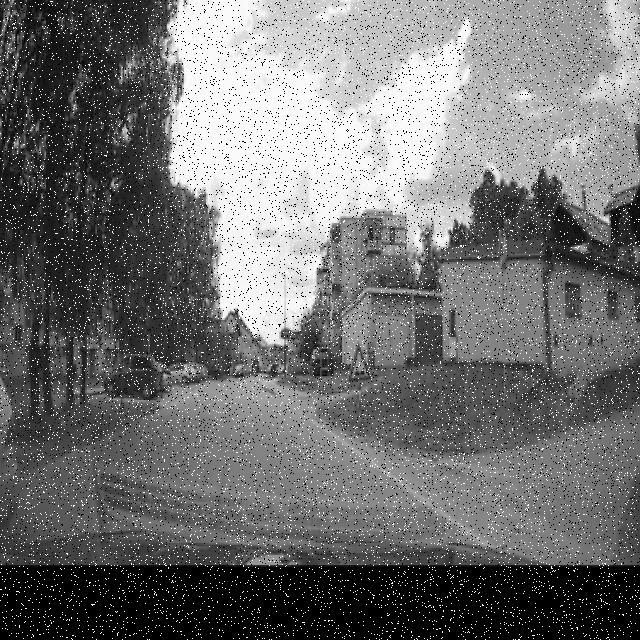clear-road: (95, 379, 640, 564)
